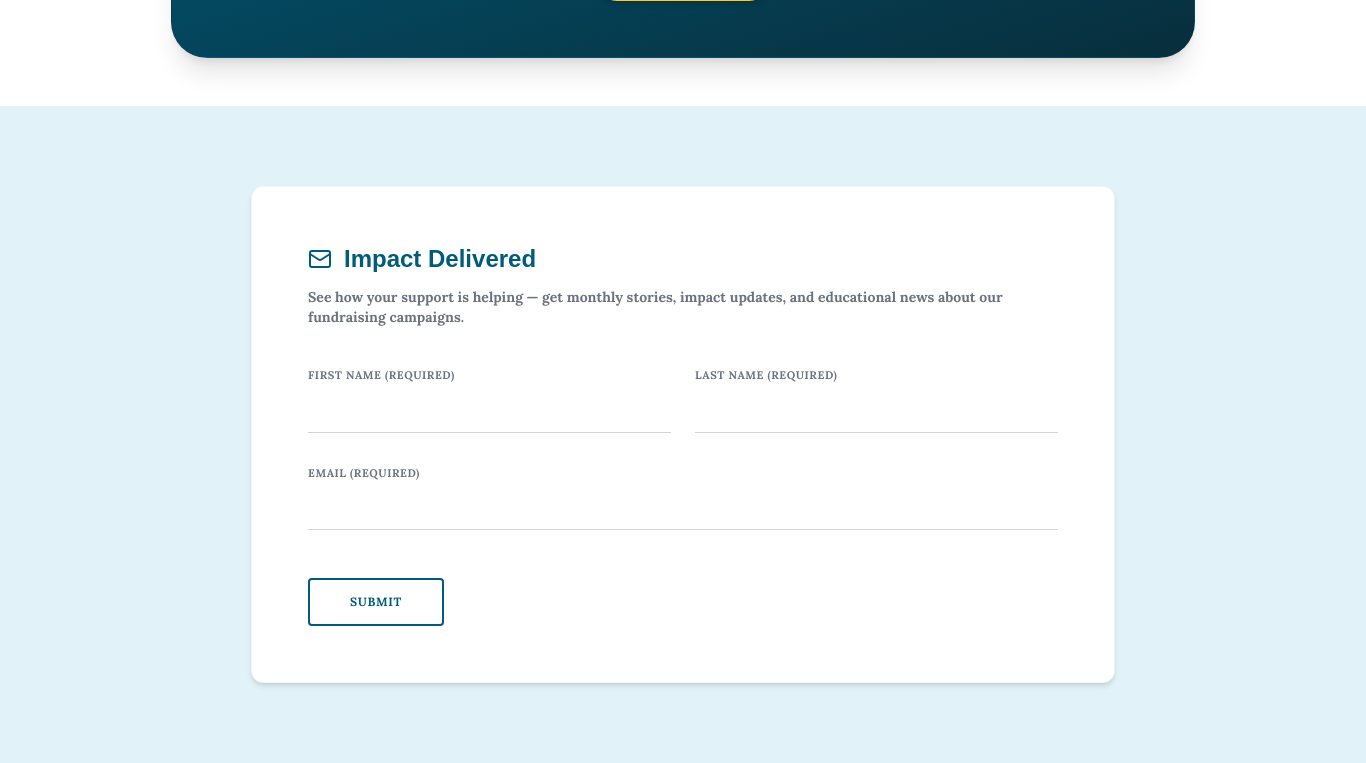
Test: home page newsletter form › shows the server error and keeps the entered email when subscribing fails
(page scrolled)
Type "Ada" into the field labelled "First Name (required)" at (490, 410), box [308, 388, 671, 432]
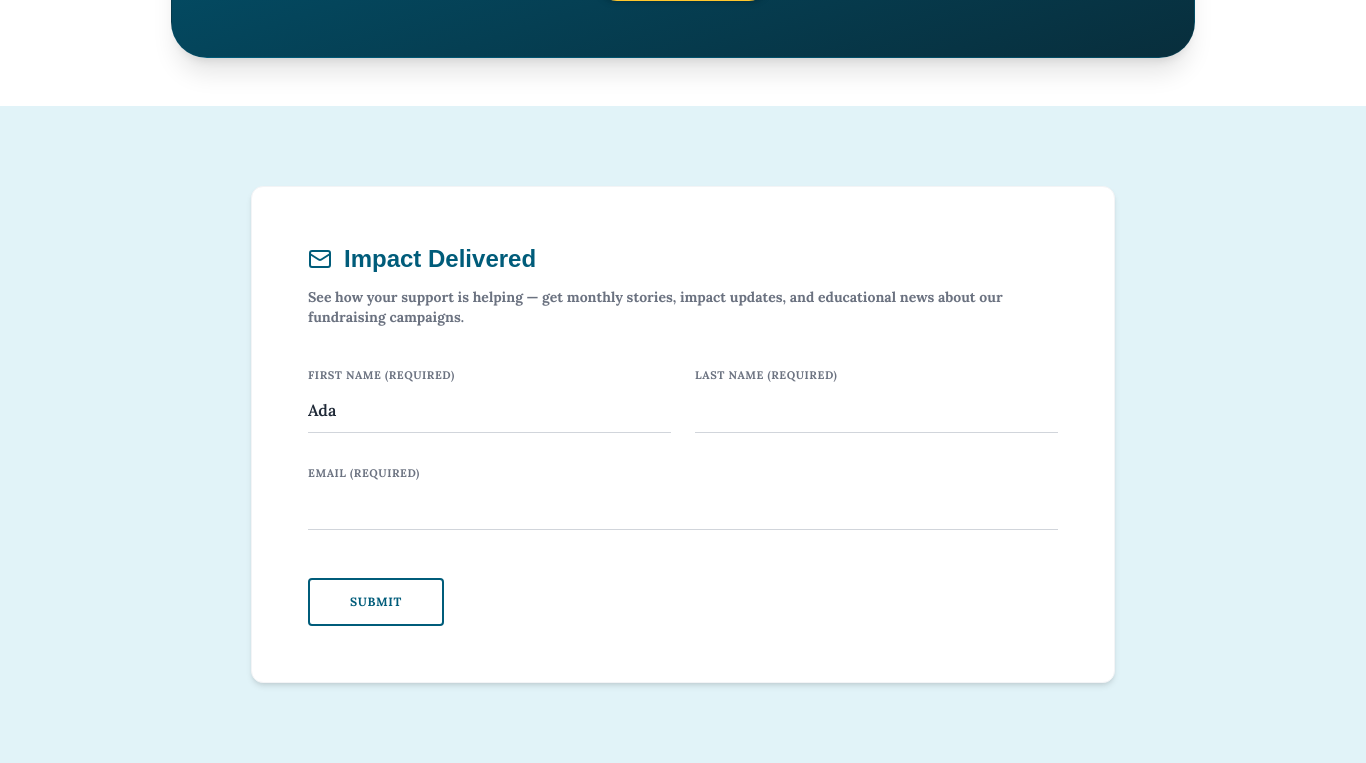
Type "Lovelace" into the field labelled "Last Name (required)" at (876, 410), box [695, 388, 1058, 432]
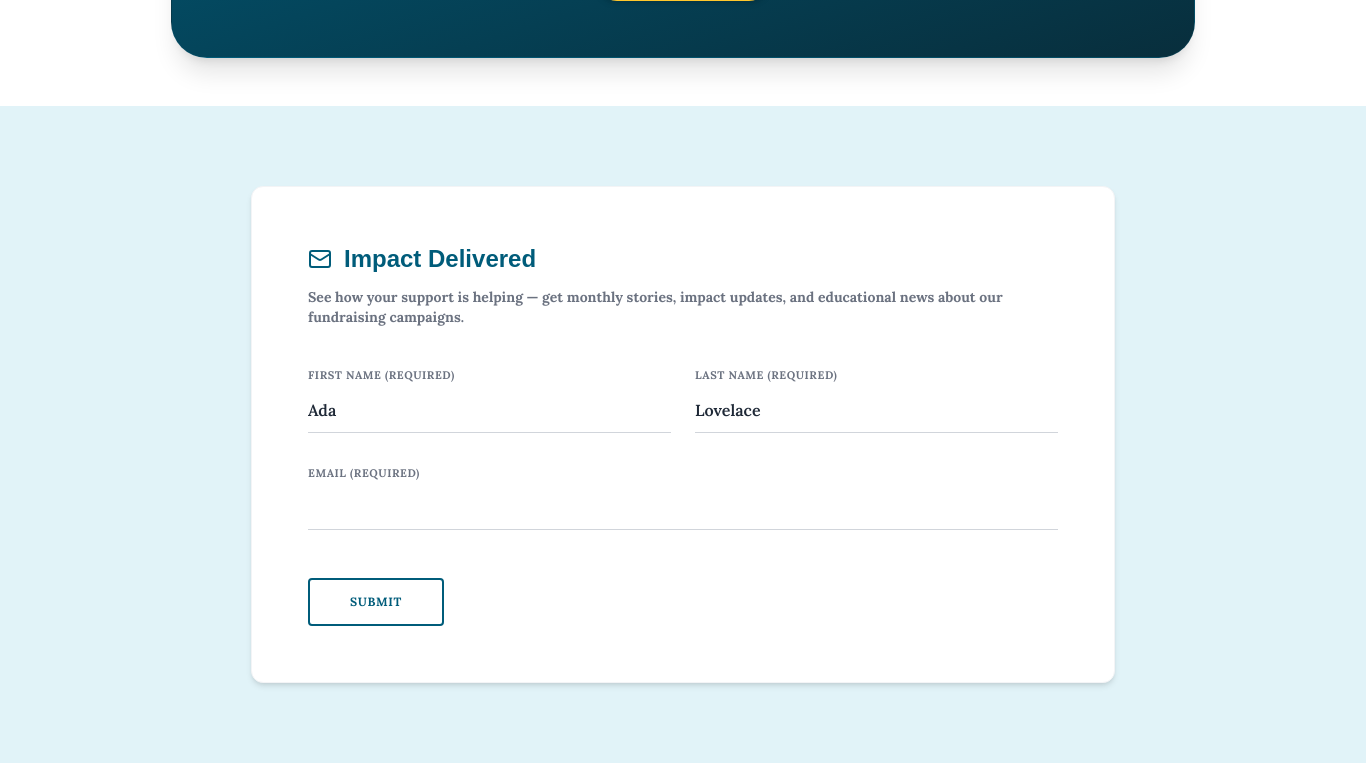
Type "ada@example.com" into the field labelled "Email (required)" at (683, 508), box [308, 485, 1058, 530]
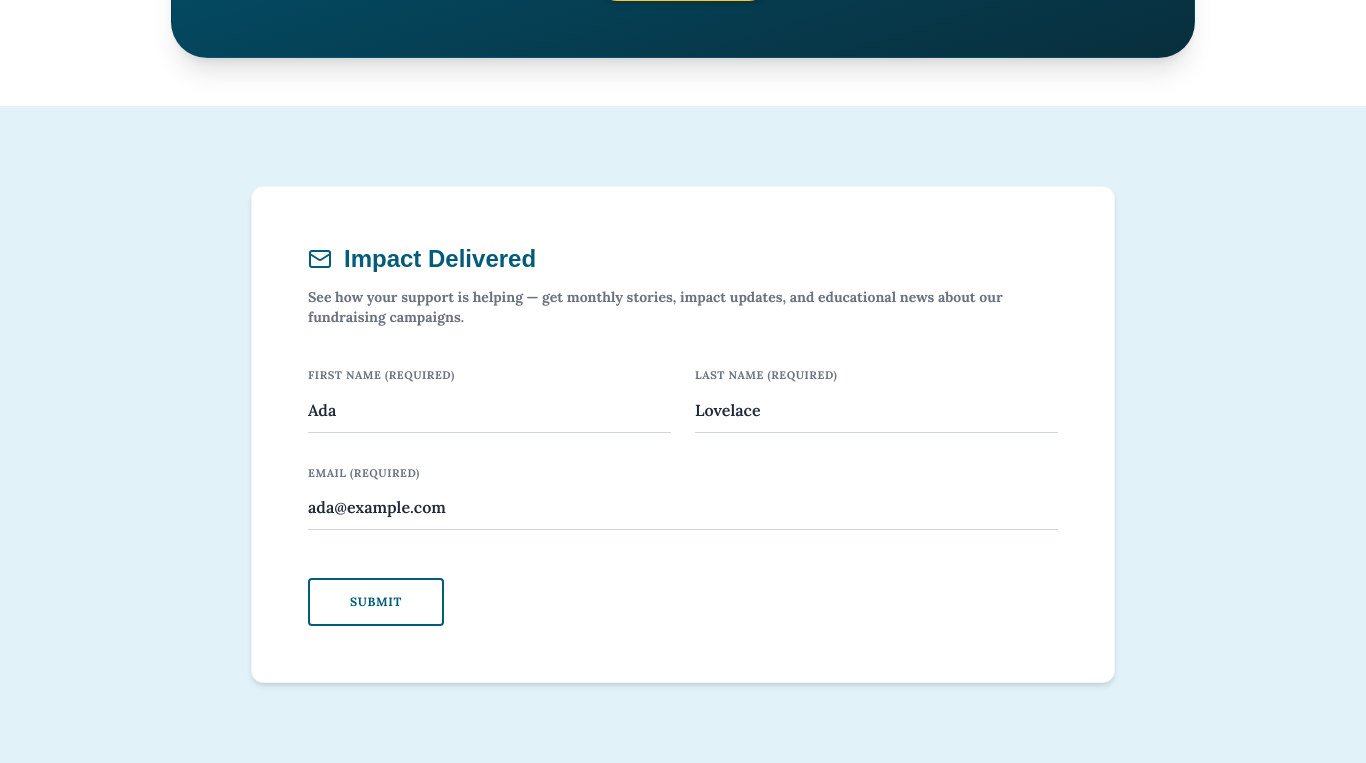
Click the button "SUBMIT" at (376, 602), box [308, 578, 444, 626]
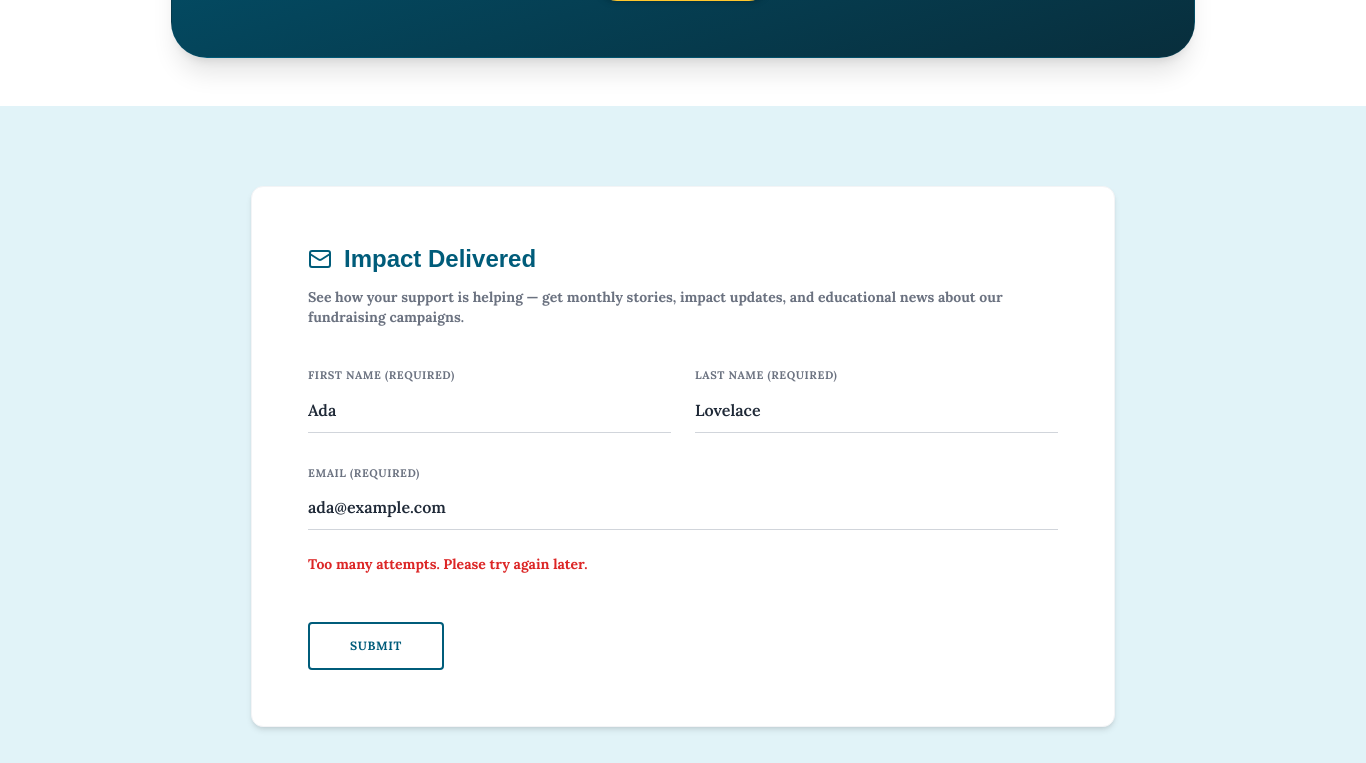
Check: the message shows "Too many attempts", box [308, 555, 588, 573]
